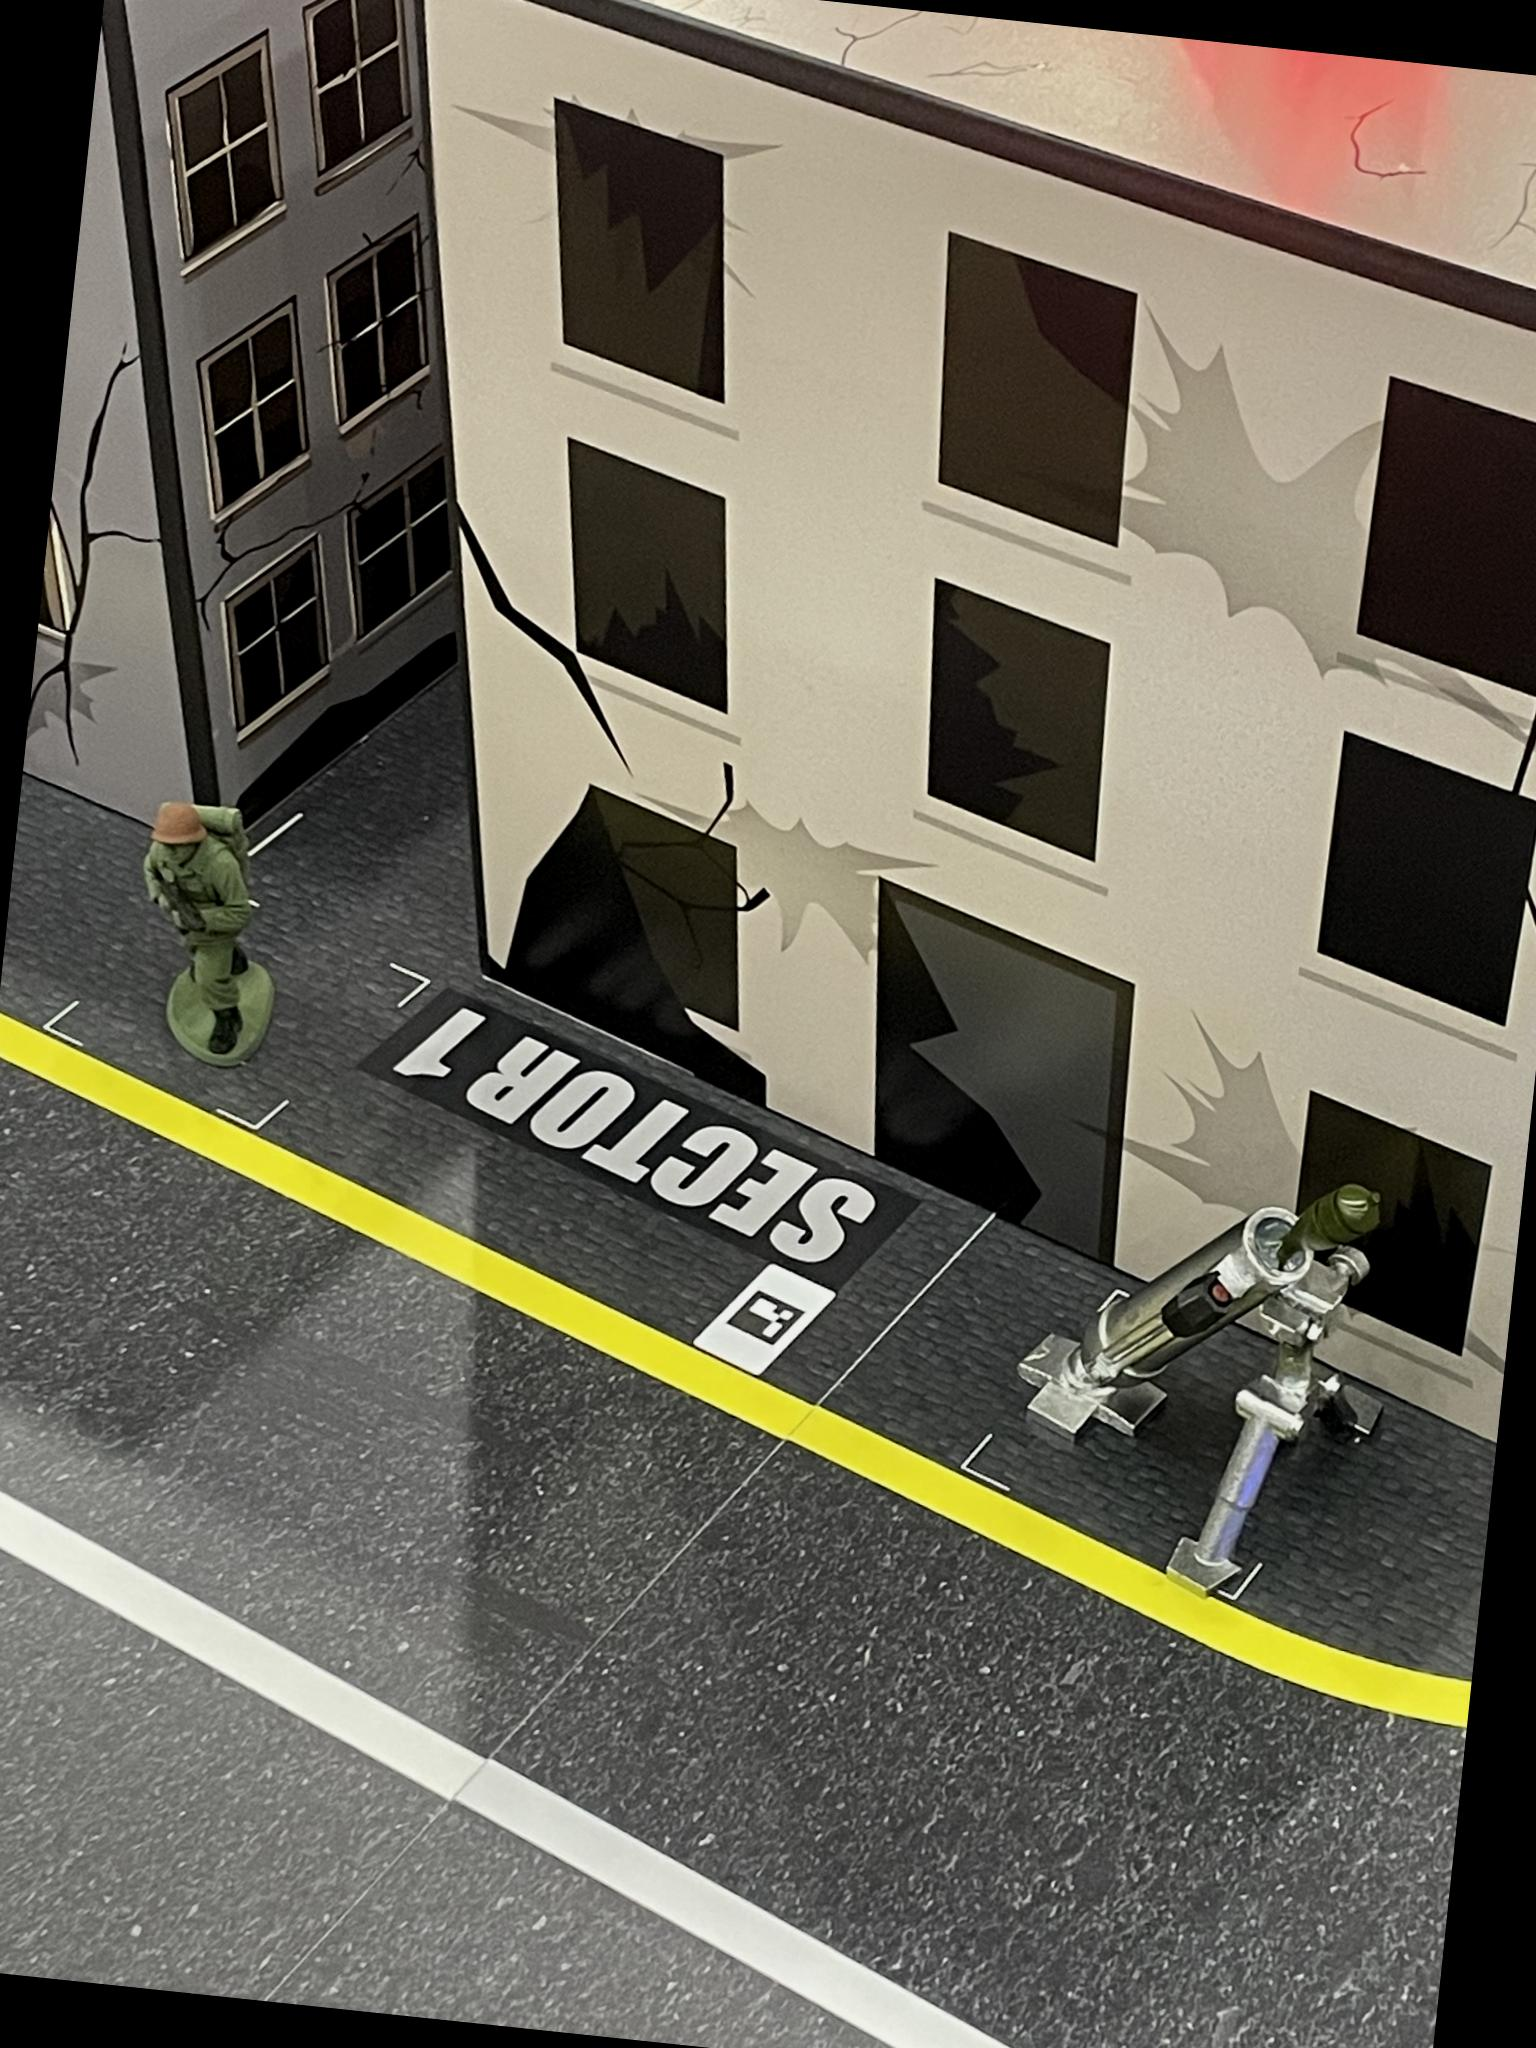Enemy: (100, 790, 300, 1076)
Mortar: (992, 1148, 1417, 1600)
